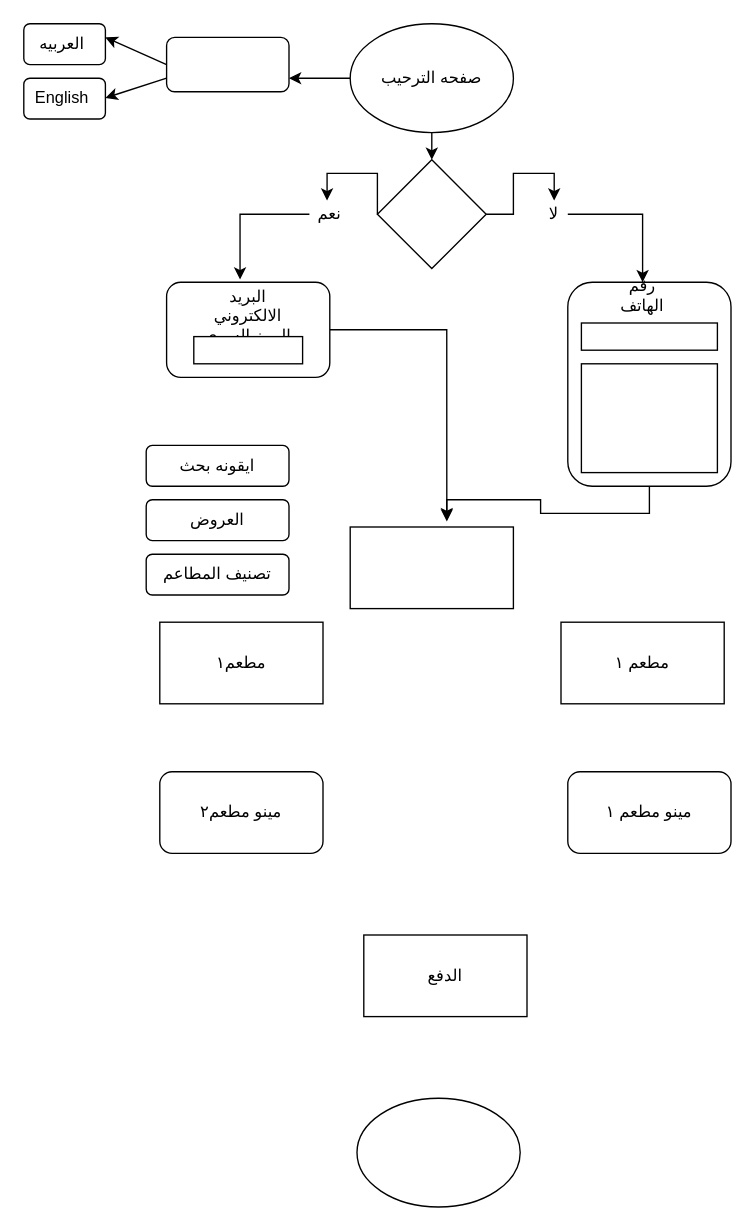
The diagram is 755 pixels wide and 1231 high, and some of its shapes have lost their labels. Here are the shapes that lost their labels. From the top down, the centre of each, then its label:
the point at 227,64: اللغه
the point at 431,213: التسجيل
the point at 247,349: نسيت كلمه المرور
the point at 648,336: رمز التفعيل
the point at 648,417: الاسم الاول الاسم الاخير البريد الالكتروني الرمز السري العنوان
the point at 431,567: الصفحه الرئسيه
